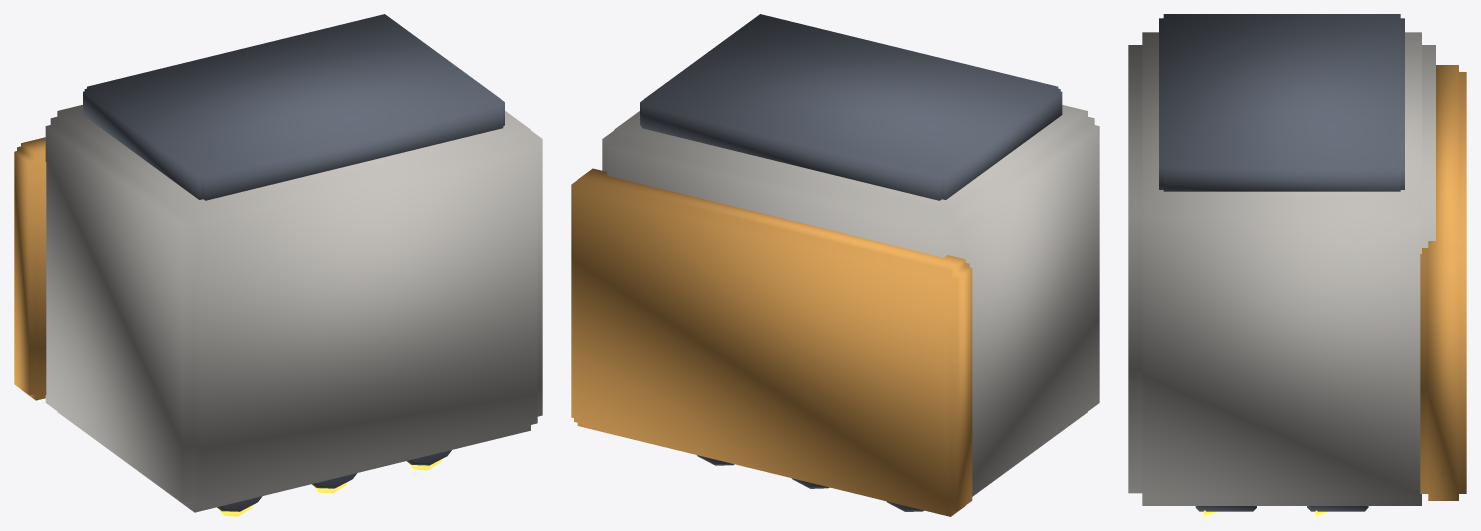
The model's file is rocket_pod_6.glb.
3 renders of one model, left to right at view 1: azimuth 30°, elevation 25°; view 2: azimuth 150°, elevation 25°; view 3: azimuth 270°, elevation 25°, orthographic.
Parts seen in each view (by area): view 1: rocket_pod_6; view 2: rocket_pod_6; view 3: rocket_pod_6.
Part boxes in pixels (x1,y1,x2,y2): rocket_pod_6: (14, 14, 542, 516); rocket_pod_6: (571, 14, 1099, 516); rocket_pod_6: (1128, 14, 1466, 516).
Bounding box in the file's own units: 0.59 × 0.5453 × 0.44.
